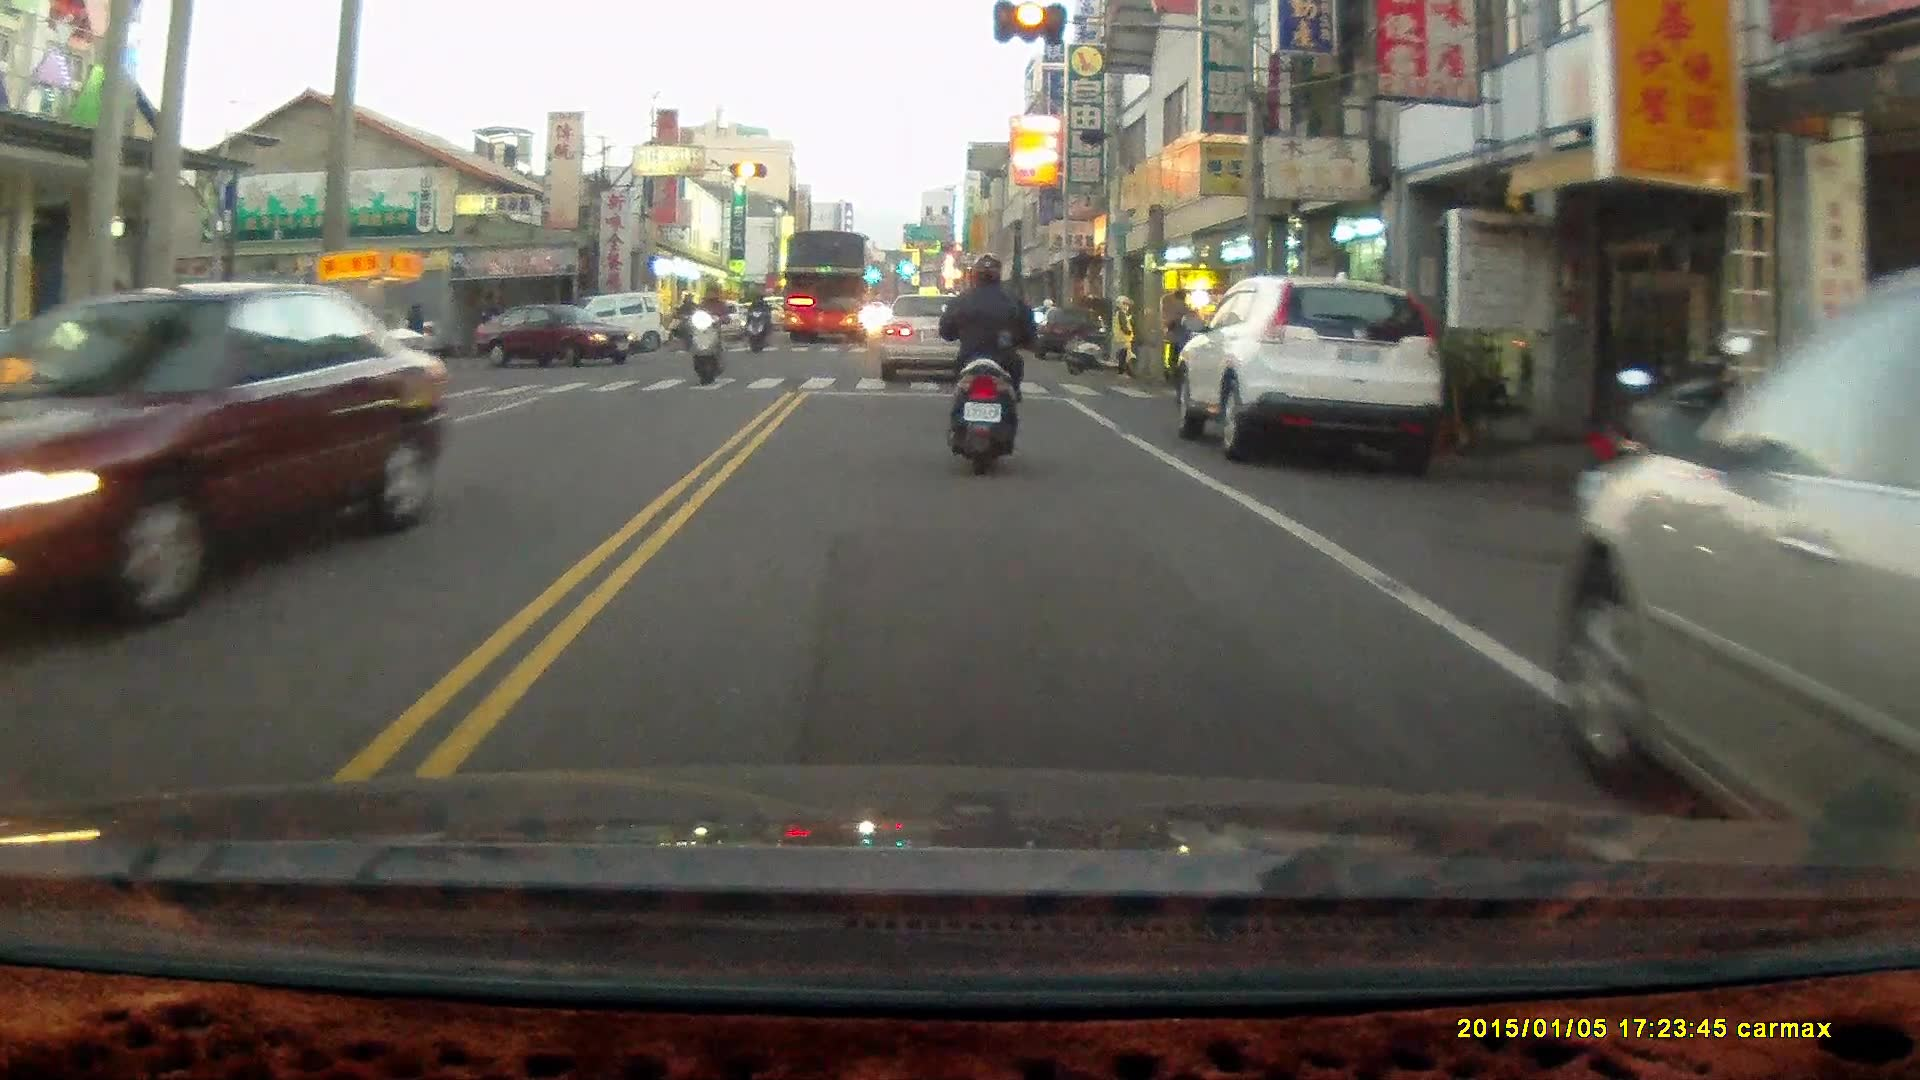pedestrian: (1164, 287, 1194, 388), (1109, 294, 1140, 381), (404, 300, 425, 359)
rider: (938, 251, 1039, 478), (685, 279, 729, 387), (668, 291, 698, 354), (745, 288, 768, 354)
vehicle: (1563, 260, 1919, 829), (1, 281, 461, 648), (1176, 276, 1449, 464), (777, 231, 874, 346), (485, 304, 632, 374), (878, 293, 987, 382)
